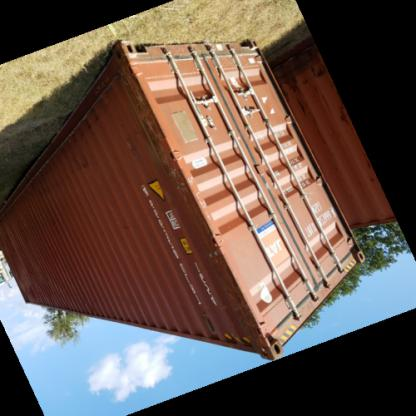Damage: (110, 62, 189, 200), (222, 274, 268, 346), (16, 260, 36, 306), (64, 156, 94, 178)
